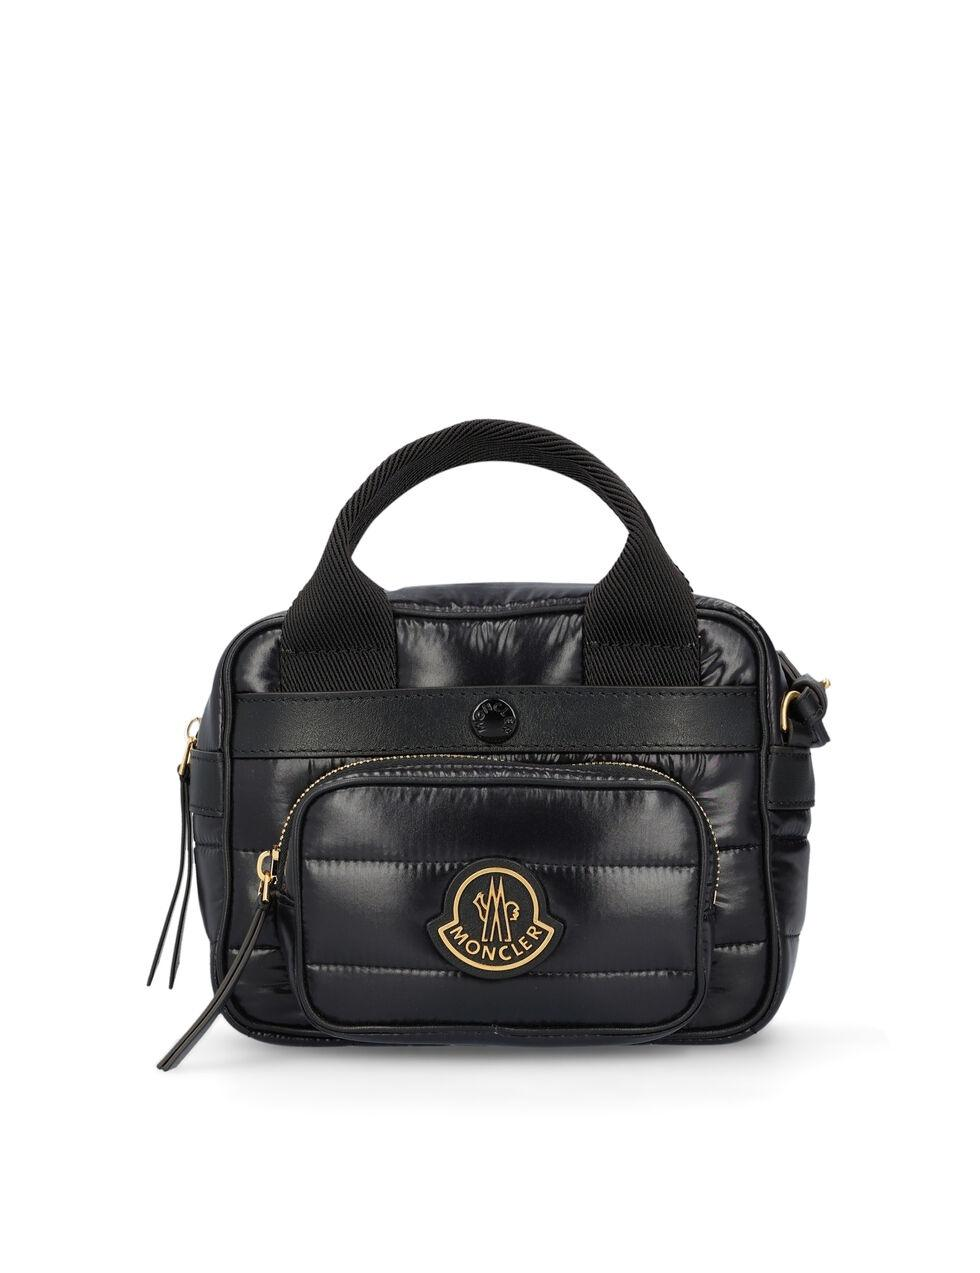MONCLER: (426, 856, 566, 982)
